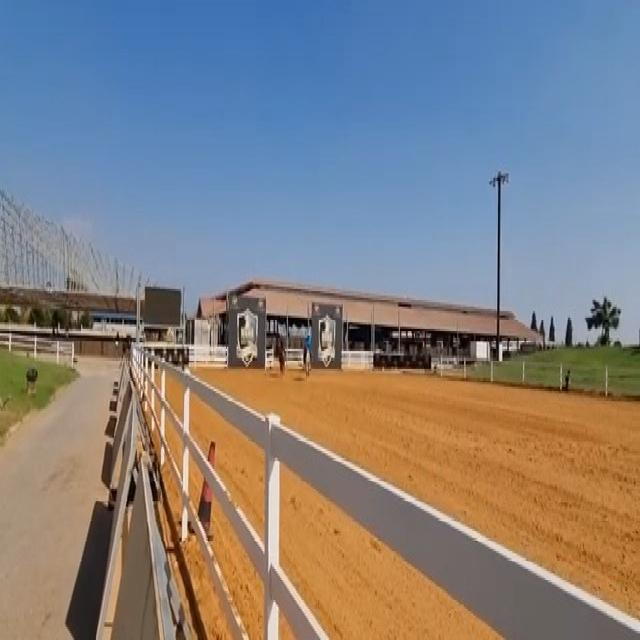horse: (273, 329, 287, 378)
